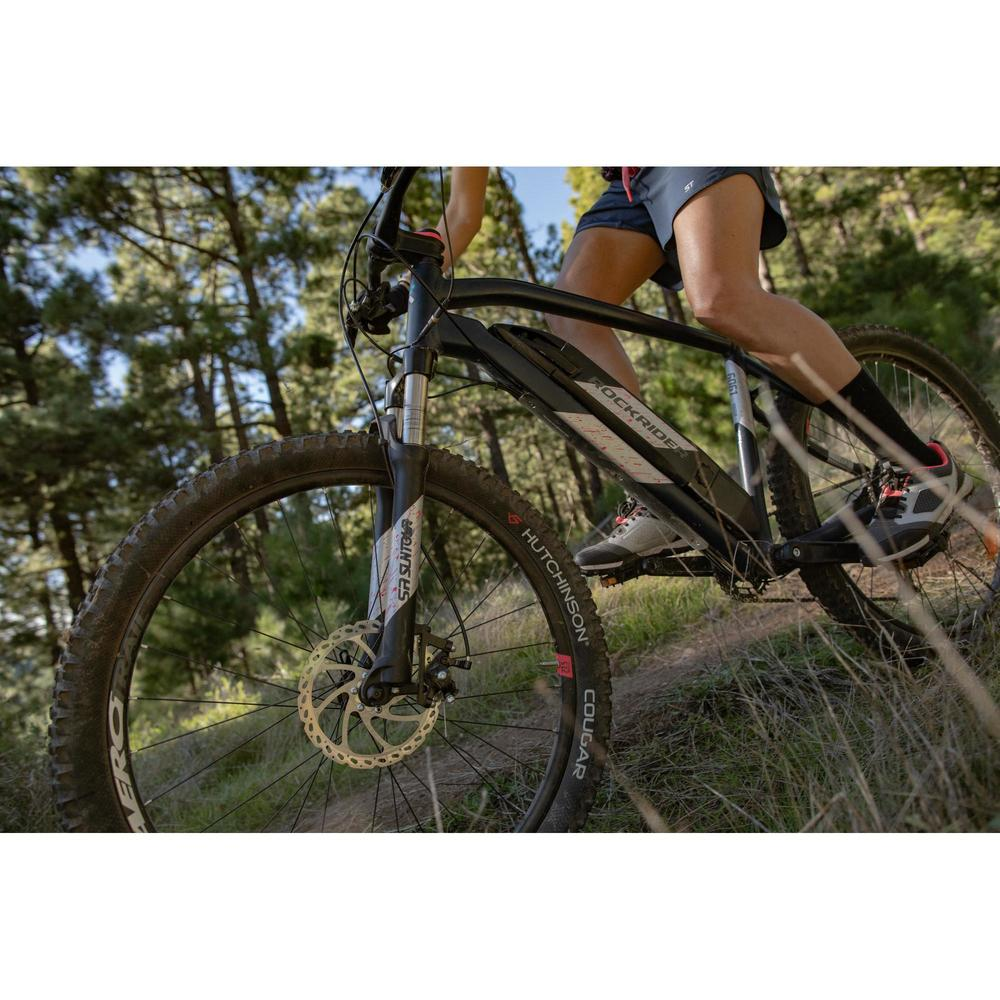MountainBike: (54, 155, 992, 837)
